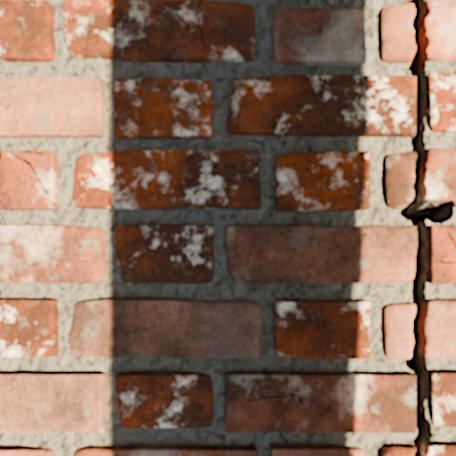brick: (64, 0, 254, 61), (228, 75, 414, 136), (226, 373, 415, 432), (70, 299, 261, 357), (72, 150, 259, 208), (227, 226, 415, 283), (0, 77, 104, 137), (0, 373, 105, 431), (0, 225, 105, 282), (115, 78, 212, 138), (276, 152, 370, 211), (117, 226, 213, 282), (275, 302, 369, 358), (116, 373, 213, 427), (273, 9, 365, 64), (0, 299, 58, 356), (0, 151, 57, 209), (0, 0, 54, 61), (75, 446, 256, 455), (428, 73, 455, 131), (430, 226, 455, 283), (430, 372, 455, 425), (272, 446, 363, 455), (0, 447, 54, 455)
broken_brick: (378, 3, 414, 64), (382, 302, 414, 359), (383, 151, 414, 209), (425, 299, 455, 358), (426, 0, 455, 61), (426, 147, 455, 207), (379, 444, 414, 455), (427, 442, 455, 455)
crack: (398, 0, 454, 455), (8, 150, 48, 194), (181, 0, 206, 50), (0, 150, 2, 160)
